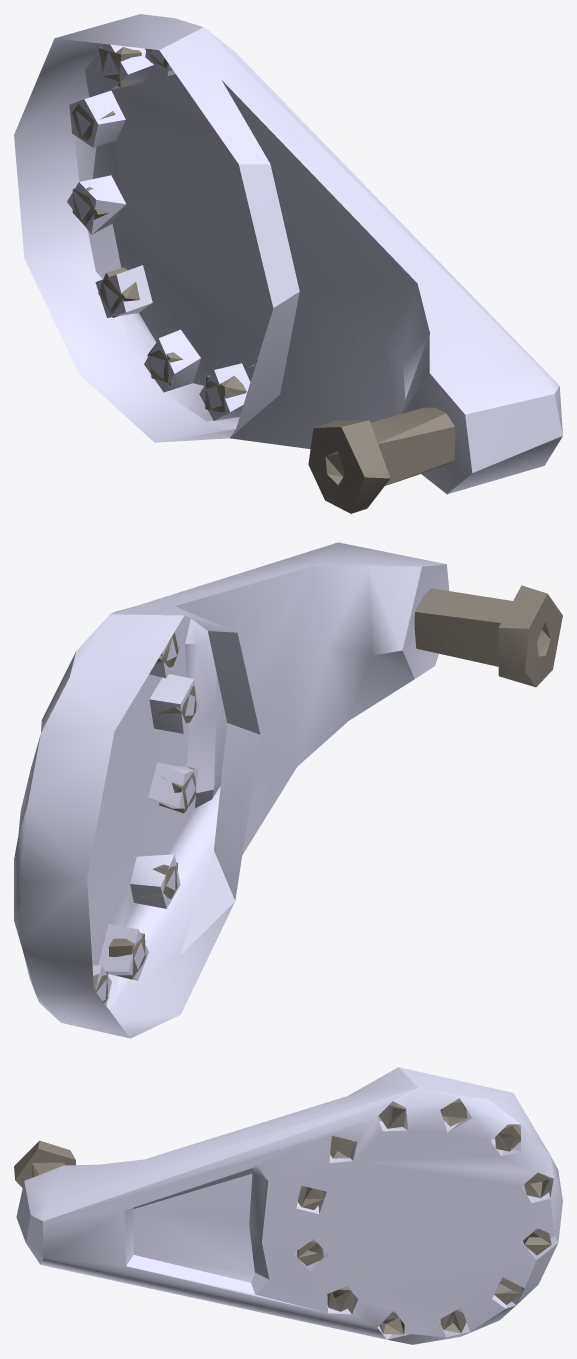
Rendered from left-foot-crank.obj.
3 renders of one model, top to bottom at view 1: azimuth 30°, elevation 25°; view 2: azimuth 150°, elevation 25°; view 3: azimuth 270°, elevation 25°, orthographic. The views are drawn at different scales.
Visible parts, largest first — view 1: left_foot_crank; view 2: left_foot_crank; view 3: left_foot_crank.
Boxes of the visible parts, x1,y1,x2,y2 form: left_foot_crank: (14,14,562,513); left_foot_crank: (14,542,562,1038); left_foot_crank: (14,1067,562,1344).
Bounding box in the file's own units: 0.0263 × 0.0437 × 0.0834.
Materials: 1 (1 with a texture image).
